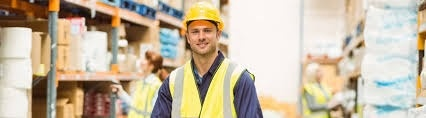helmet: (177, 1, 229, 37)
person with full safety: (165, 4, 263, 117)
person with partial safety: (135, 49, 171, 118)
safety vest: (168, 57, 248, 114), (127, 74, 159, 118), (303, 84, 332, 118)
